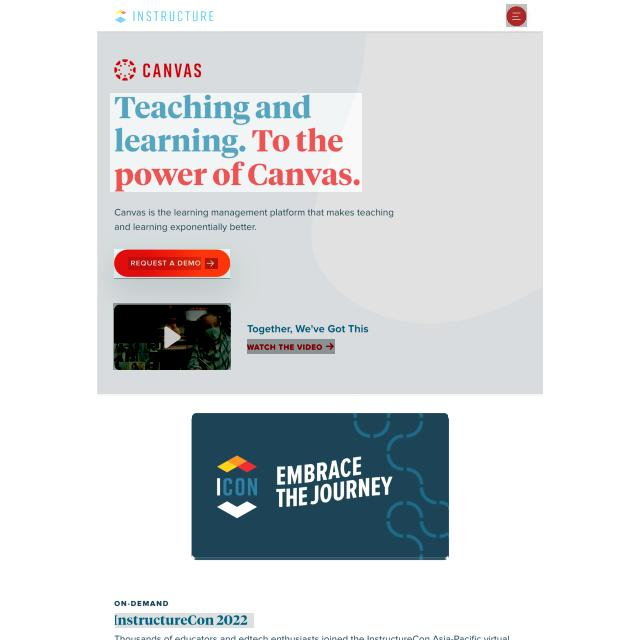CheckBox: (114, 250, 230, 280), (247, 339, 335, 354), (158, 324, 186, 350)
ImageView: (192, 414, 448, 560)
bag: (0, 0, 640, 30)
breadcrumbs: (116, 613, 256, 628)
card: (97, 31, 543, 394)
carousel: (502, 3, 533, 29), (162, 325, 184, 349), (205, 260, 218, 271)
copy: (113, 303, 231, 370)
data feed: (128, 259, 201, 272)
date picker: (107, 4, 221, 27)
decoration: (506, 4, 527, 27)
image: (110, 93, 362, 192)
